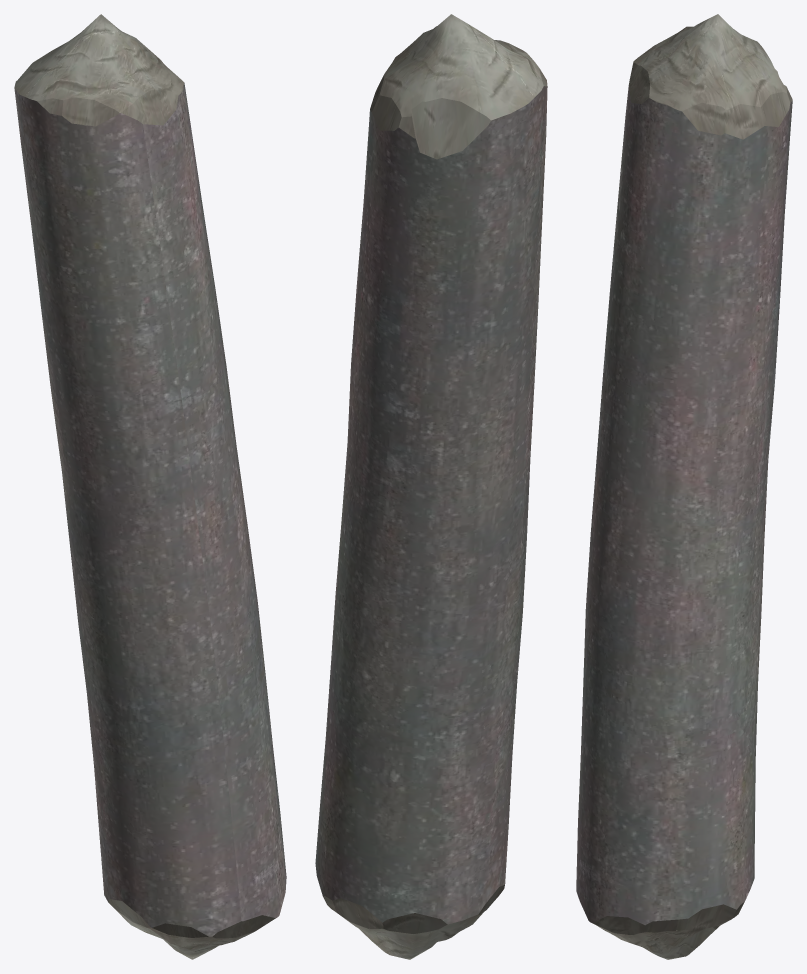
3 renders of one model, left to right at view 1: azimuth 30°, elevation 25°; view 2: azimuth 150°, elevation 25°; view 3: azimuth 270°, elevation 25°, orthographic. The views are drawn at different scales.
Parts seen in each view (by area): view 1: SM_GF_Ash_Tree_01_quarter_04_LOD0; view 2: SM_GF_Ash_Tree_01_quarter_04_LOD0; view 3: SM_GF_Ash_Tree_01_quarter_04_LOD0.
Part boxes in pixels (x1,y1,x2,y2): SM_GF_Ash_Tree_01_quarter_04_LOD0: [14, 14, 286, 959]; SM_GF_Ash_Tree_01_quarter_04_LOD0: [315, 14, 547, 959]; SM_GF_Ash_Tree_01_quarter_04_LOD0: [576, 14, 792, 959].
Bounding box in the file's own units: 0.6232 × 2.51 × 0.5378.
Materials: 1 (1 with a texture image).
